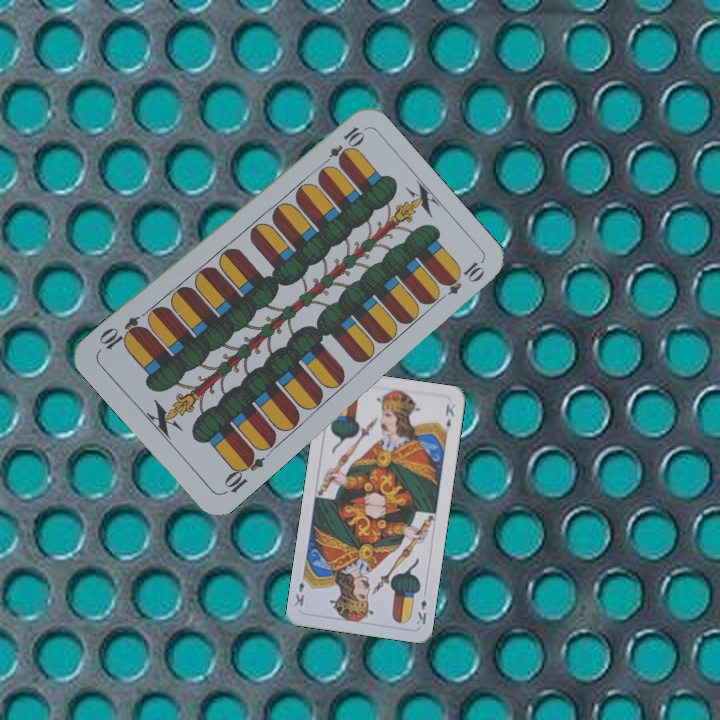E10: (317, 122, 367, 171), (219, 446, 267, 497)
EK: (412, 595, 429, 627)
